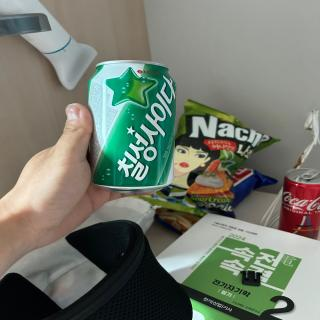chilsung: (83, 58, 180, 196)
